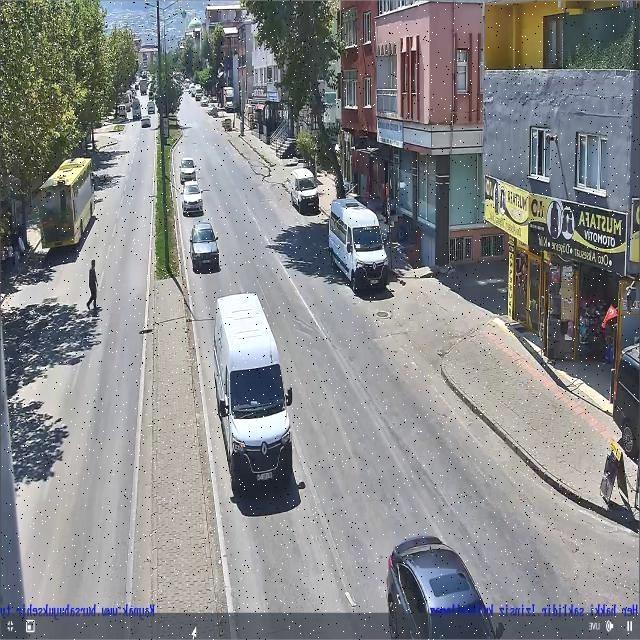Bus: (36, 156, 99, 249), (140, 115, 152, 127), (118, 104, 127, 118)
Car: (383, 531, 504, 640), (189, 222, 221, 270), (180, 180, 206, 213), (177, 156, 198, 182)
Van: (211, 292, 296, 490), (327, 195, 391, 297), (290, 166, 319, 215), (146, 101, 156, 115)
